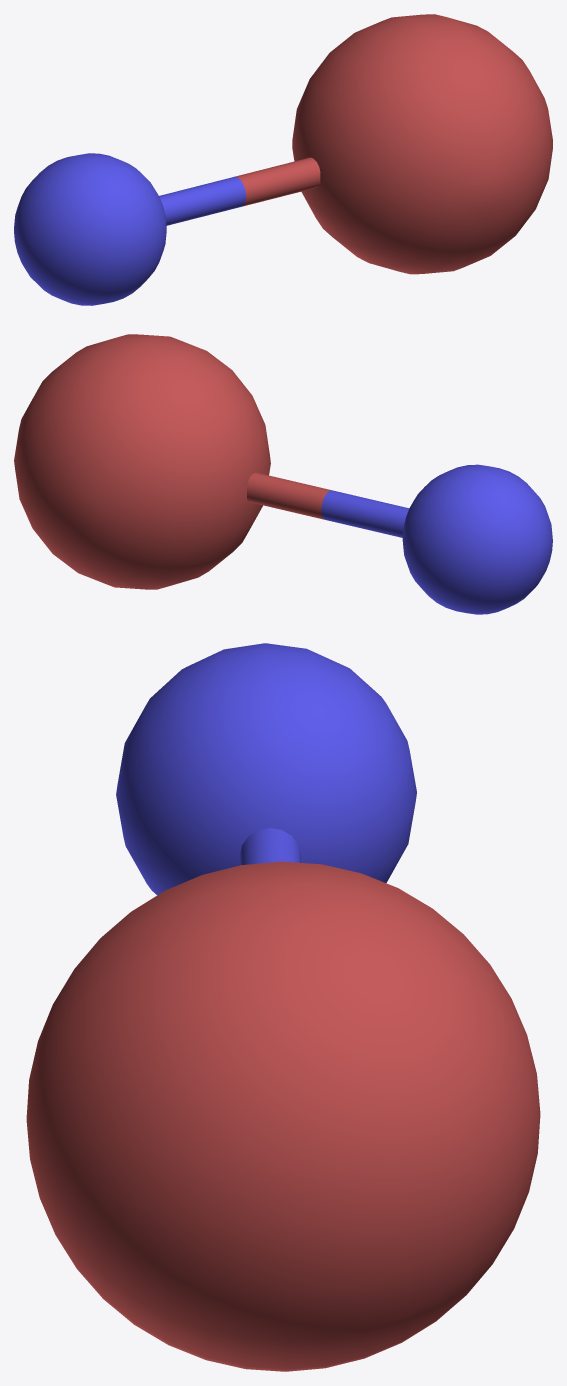
Rendered from BeH.fbx.
3 views of the same model, one above another, from view 1: azimuth 30°, elevation 25°; view 2: azimuth 150°, elevation 25°; view 3: azimuth 270°, elevation 25° (orthographic). The views are drawn at different scales.
Parts seen in each view (by area): view 1: BeH; view 2: BeH; view 3: BeH.
Part boxes in pixels (<box>): BeH: <box>14,14,552,305</box>; BeH: <box>14,334,552,614</box>; BeH: <box>26,643,540,1371</box>.
Bounding box in the file's own units: 6.22 × 2.73 × 2.73.
